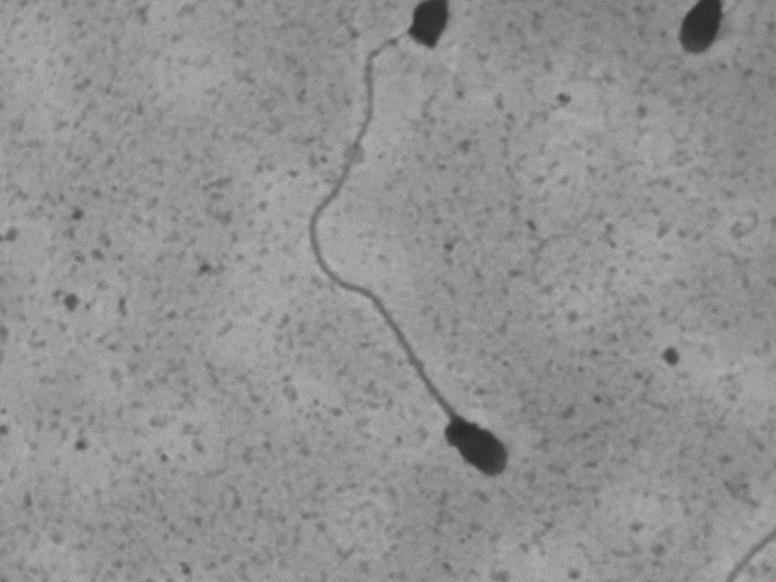Abnormal: (288, 21, 528, 497)
